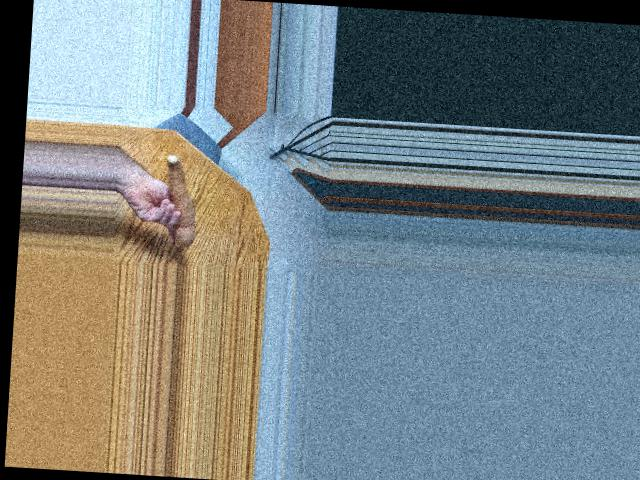sweet_potato: (158, 158, 203, 243)
